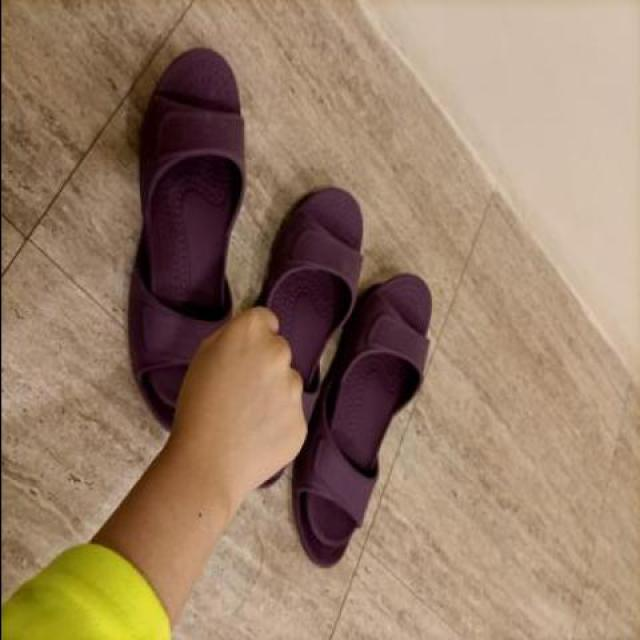Closed Hand: (156, 310, 308, 481)
